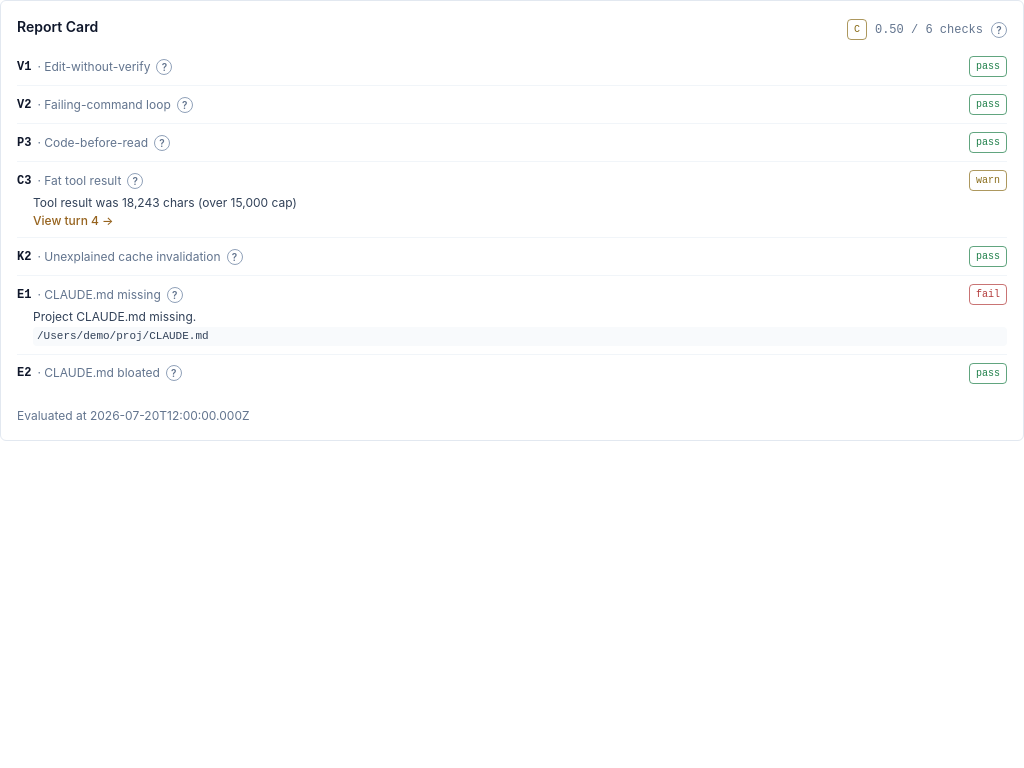
Scenario: ReportCardView › opens a gate's info modal with its explanation and configured threshold
Click the button named "What does V2 check?". click: (185, 104)
box: [177,96,193,112]
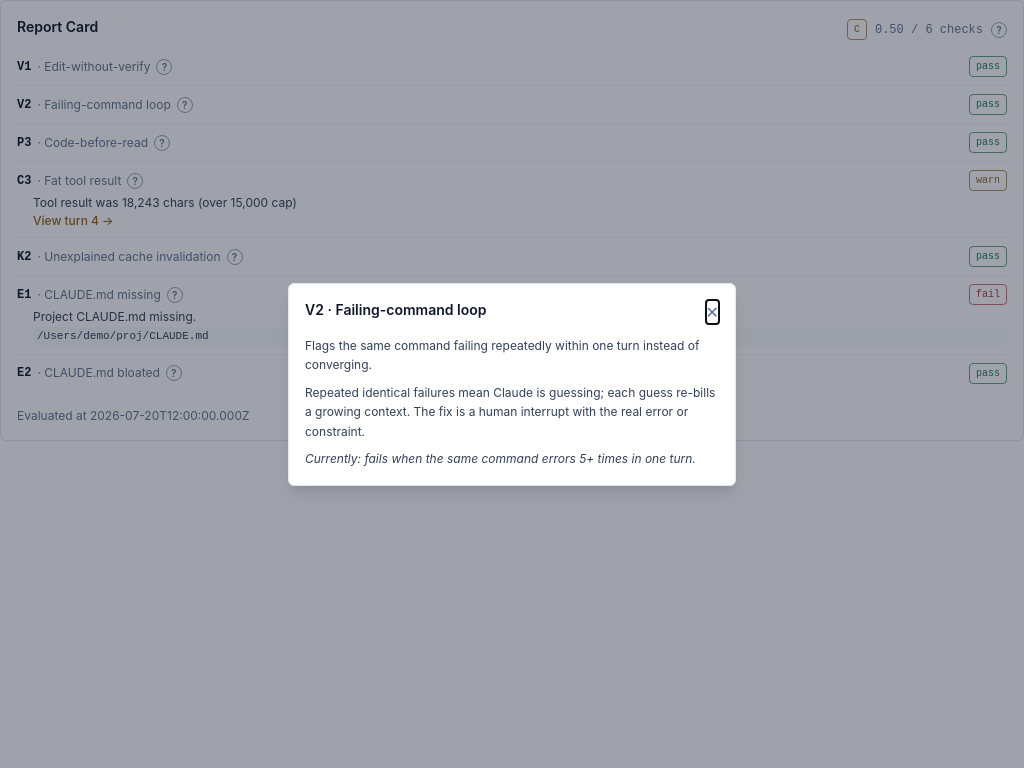
Expected: the text "Repeated identical failures" is shown, [305,384,715,438]
Expected: the text "5+ times" is shown, [305,451,696,466]
